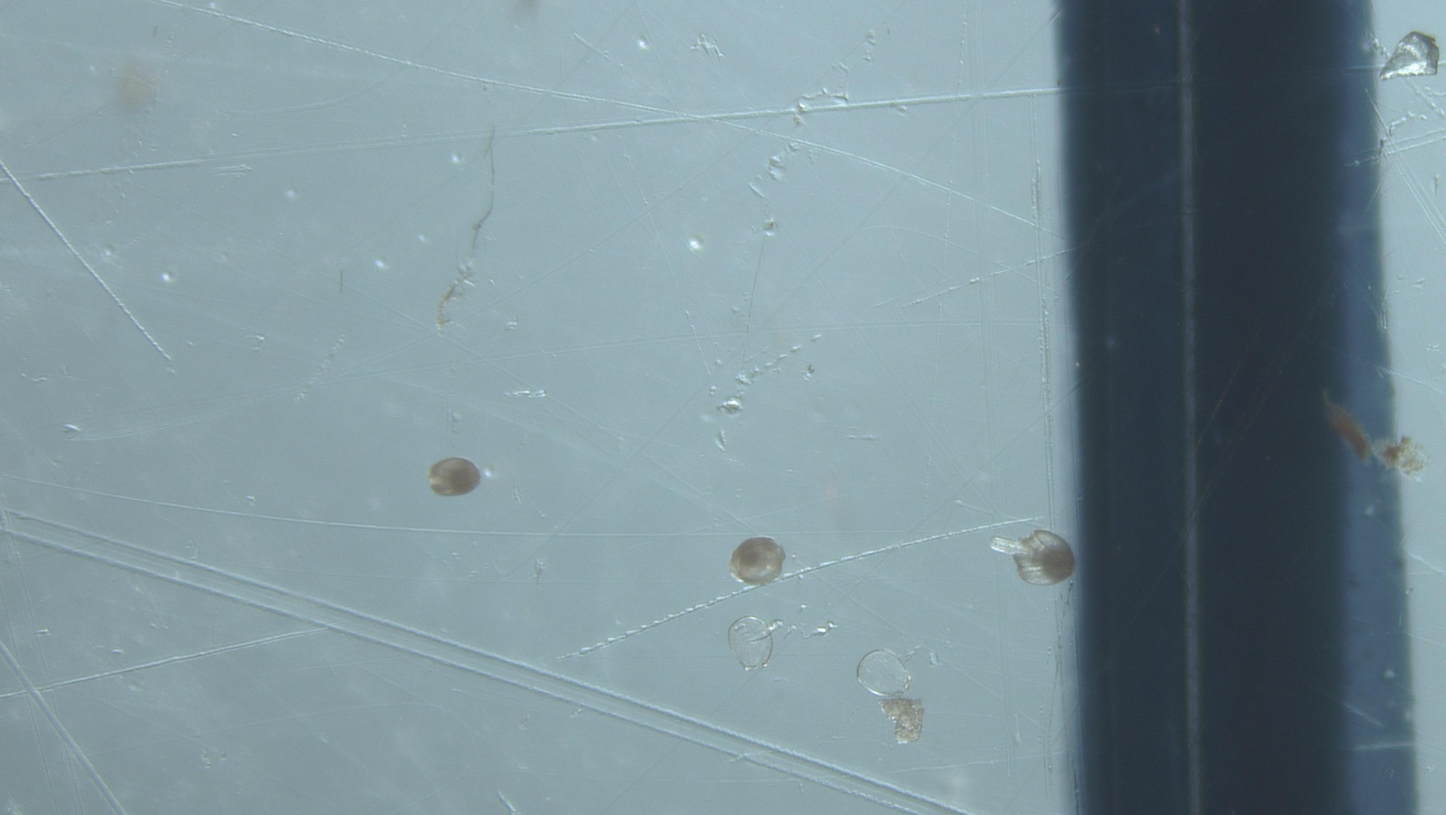dead: (727, 617, 782, 671), (856, 649, 912, 699)
live: (991, 530, 1074, 586), (729, 537, 786, 586), (428, 457, 482, 497)
